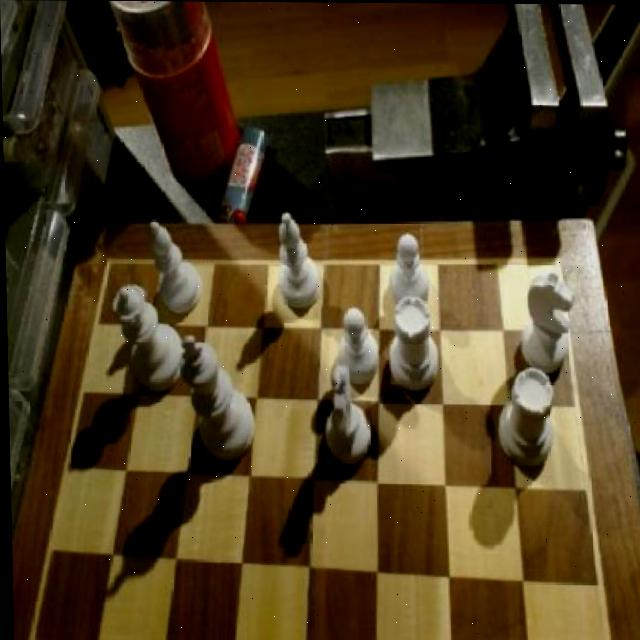black-rook: (144, 221, 206, 323), (276, 214, 324, 317)
white-bishop: (178, 335, 256, 464)
white-king: (514, 265, 579, 384), (320, 366, 372, 463)
white-knight: (332, 306, 384, 386), (385, 231, 431, 311)
white-pawn: (110, 285, 187, 390)
white-queen: (491, 366, 565, 477), (379, 298, 439, 397)
